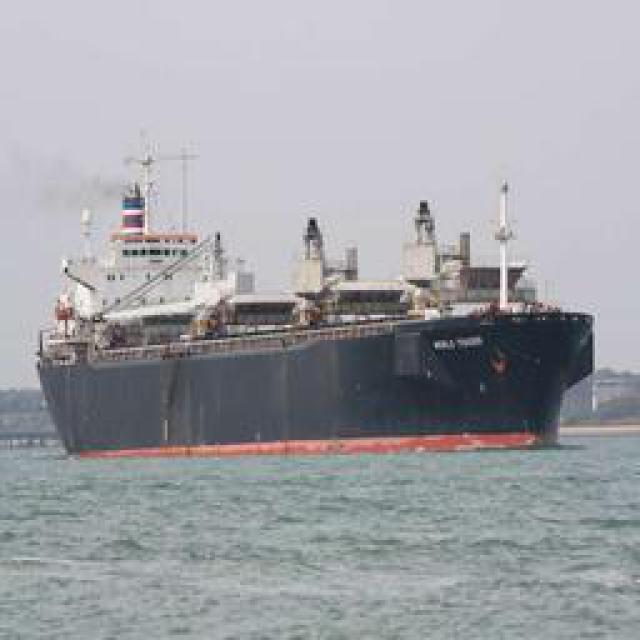Ship: (36, 151, 599, 454)
